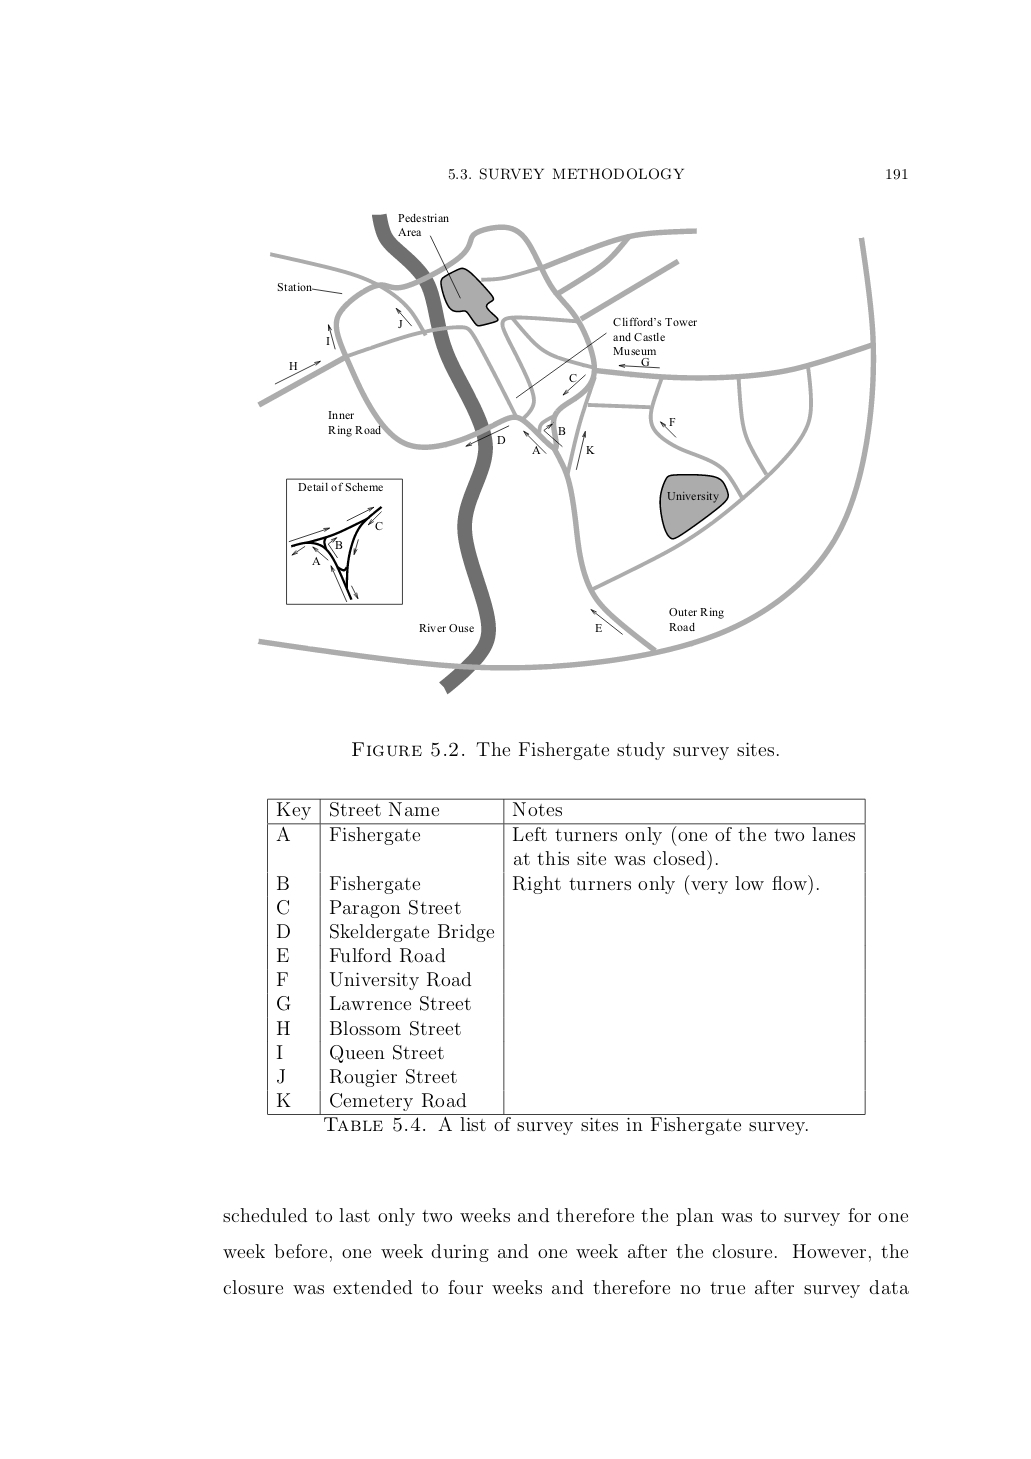Table: (267, 798, 865, 1136)
figure: (257, 212, 876, 695)
